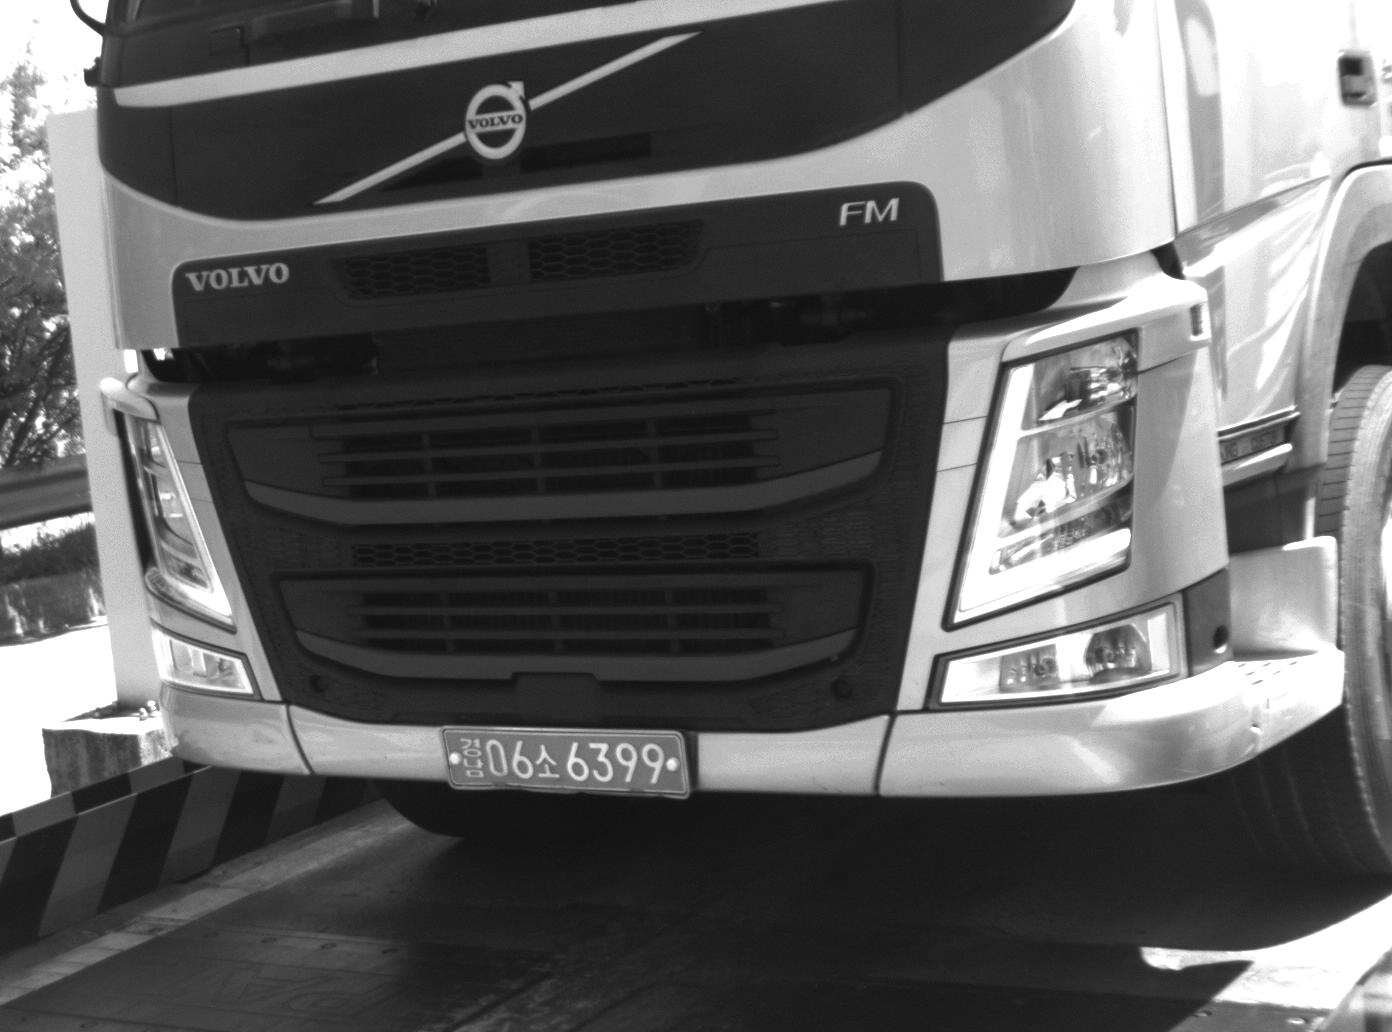car: (84, 1, 1392, 881)
plate: (435, 723, 694, 802)
